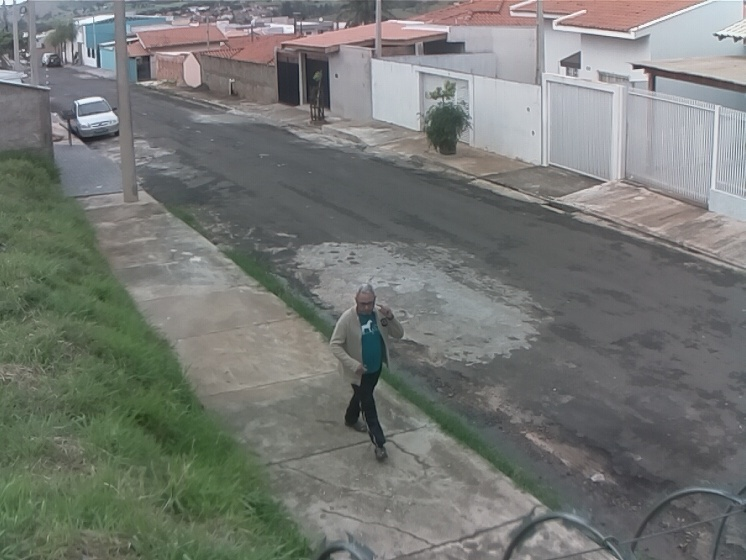person: (328, 281, 409, 464)
